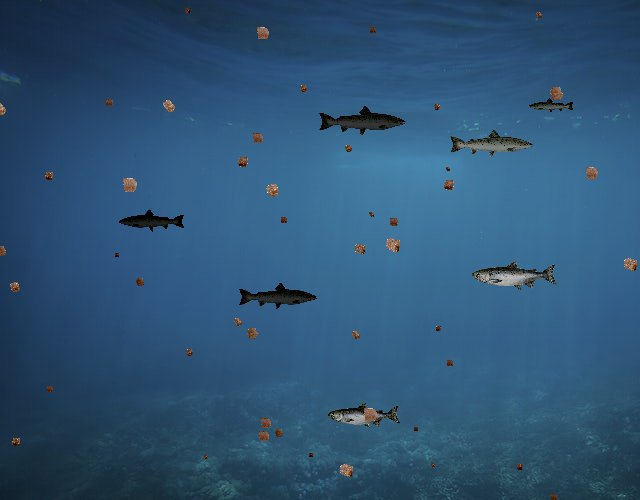Fish: (317, 104, 407, 136), (448, 128, 534, 159), (472, 260, 558, 291), (238, 281, 319, 311), (328, 402, 401, 428), (118, 208, 186, 233), (528, 97, 575, 114)
Pellet: (114, 169, 144, 200), (249, 20, 276, 47), (3, 276, 26, 298), (232, 151, 254, 173), (346, 326, 365, 345), (384, 213, 402, 231), (512, 460, 526, 474), (366, 23, 380, 37), (432, 322, 445, 335), (181, 5, 194, 18), (200, 452, 210, 462)
